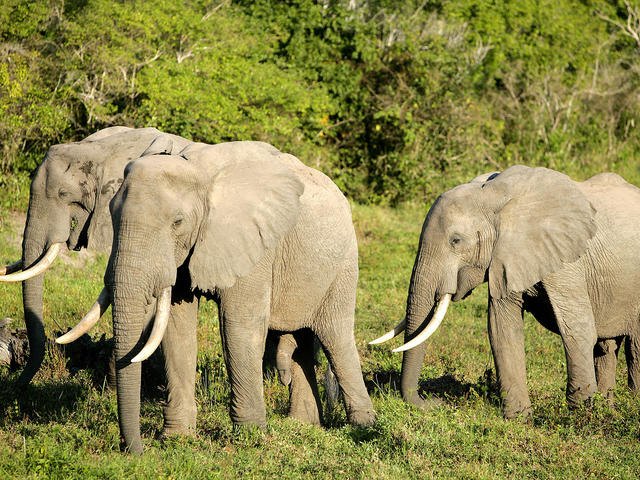elephant: (52, 142, 389, 459), (363, 161, 640, 429), (2, 121, 248, 410)
